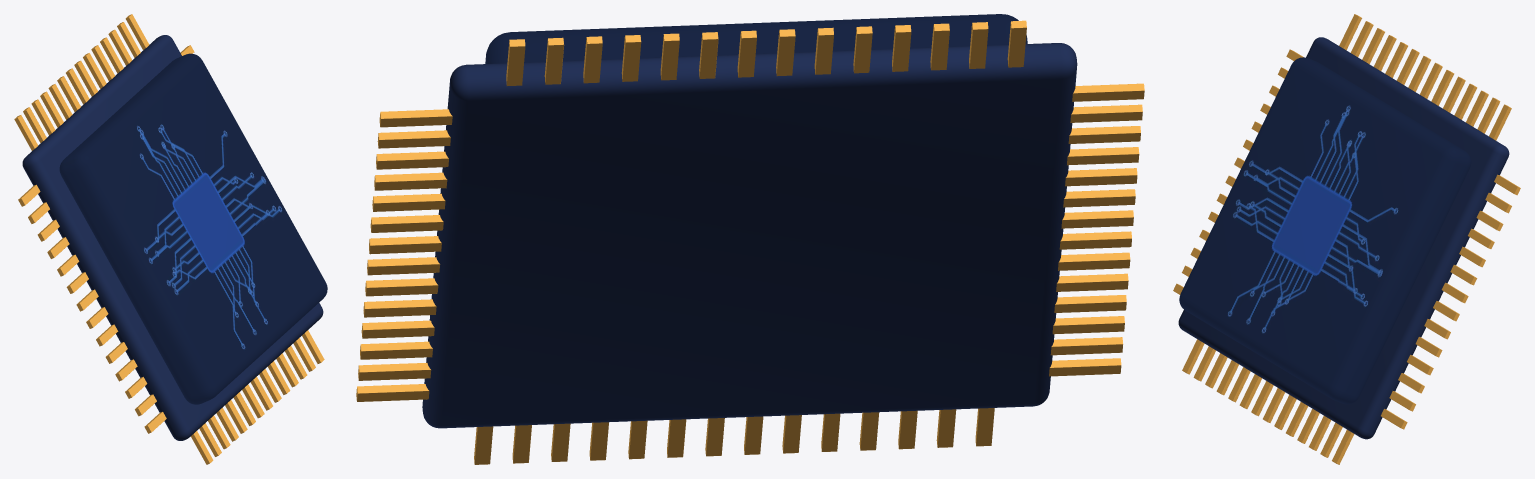
File: chip.glb
The picture shows the model from 3 angles, left to right: view 1: azimuth 30°, elevation 25°; view 2: azimuth 150°, elevation 25°; view 3: azimuth 270°, elevation 25°; orthographic projection. The views are drawn at different scales.
Parts seen in each view (by area): view 1: die, substrate, Cube; view 2: substrate, Cube, die; view 3: die, substrate, Cube.
Boxes of the visible parts, box(x1,y1,x2,y2) form: die: box(59, 53, 327, 404); substrate: box(22, 35, 323, 440); Cube: box(14, 14, 324, 464); substrate: box(422, 43, 1077, 428); Cube: box(356, 20, 1144, 464); die: box(485, 14, 1027, 63); die: box(1179, 57, 1471, 404); substrate: box(1178, 37, 1509, 439); Cube: box(1173, 14, 1520, 464).
Size of the model in its own units: 2.76 by 2.29 by 2.34.
Materials: 3 (1 with a texture image).
